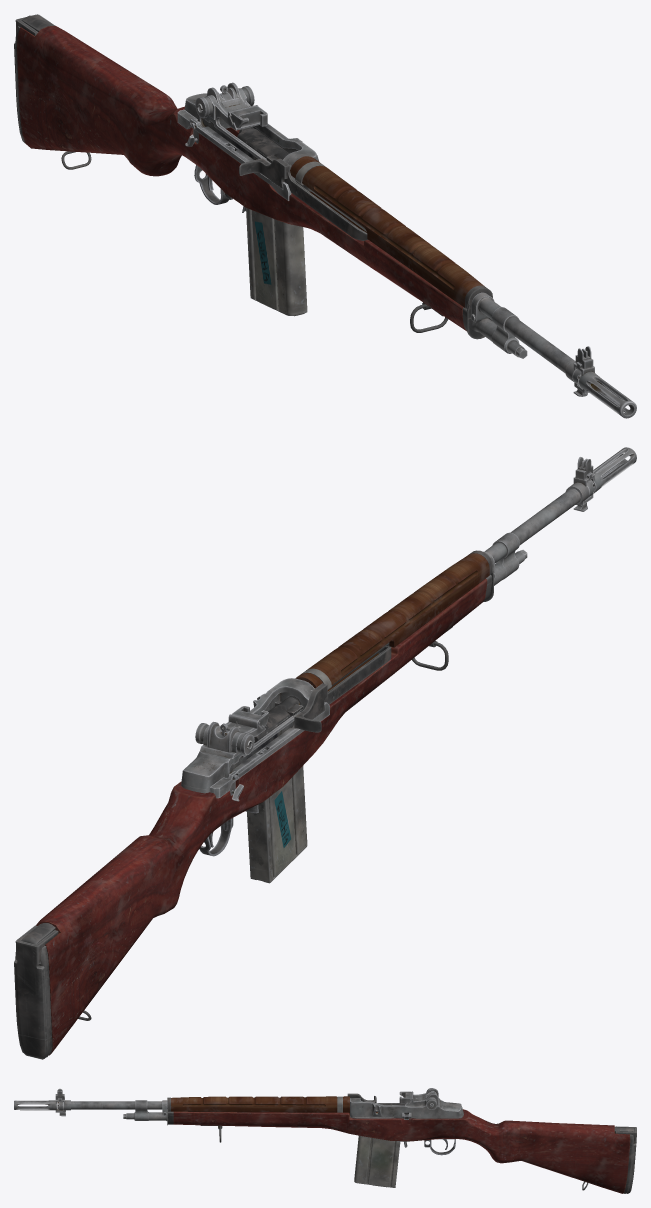
File: m14_rifle.glb
The picture shows the model from 3 angles, top to bottom: view 1: azimuth 30°, elevation 25°; view 2: azimuth 150°, elevation 25°; view 3: azimuth 270°, elevation 25°; orthographic projection. The views are drawn at different scales.
Parts seen in each view (by area): view 1: Object_2, Object_3; view 2: Object_2, Object_3; view 3: Object_2, Object_3.
Part boxes in pixels (x1=…): Object_2: x1=14, y1=14, x2=492, y2=339; Object_3: x1=177, y1=82, x2=636, y2=418; Object_2: x1=14, y1=550, x2=493, y2=1059; Object_3: x1=181, y1=447, x2=636, y2=856; Object_2: x1=167, y1=1093, x2=636, y2=1193; Object_3: x1=14, y1=1088, x2=463, y2=1155.
Size of the model in its own units: 0.0719 by 0.2019 by 1.12.
Materials: 2 (2 with a texture image).
